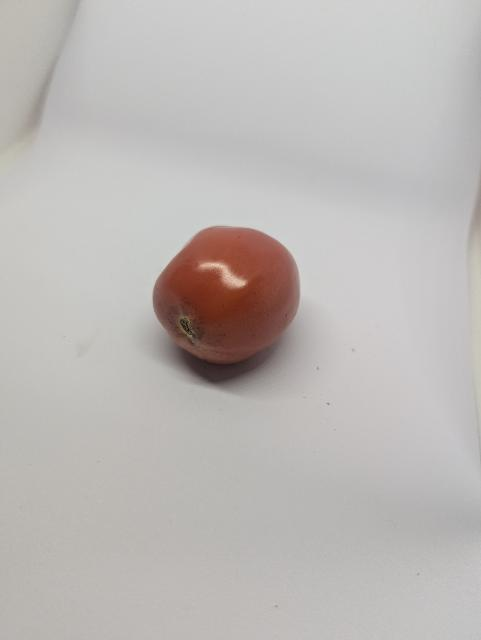red: (148, 215, 305, 386)
